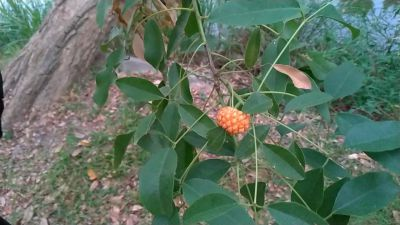eggs: (214, 102, 256, 138)
